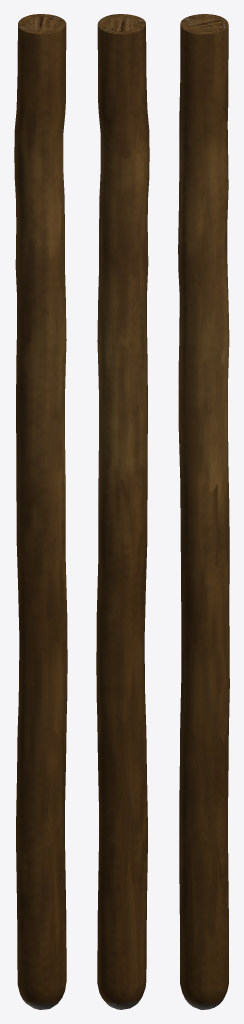
Rendered from wooden-spear-model.glb.
The picture shows the model from 3 angles, left to right: view 1: azimuth 30°, elevation 25°; view 2: azimuth 210°, elevation 25°; view 3: azimuth 330°, elevation 25°; orthographic projection.
Parts seen in each view (by area): view 1: flint-spear.001; view 2: flint-spear.001; view 3: flint-spear.001.
Boxes of the visible parts, <box> form: flint-spear.001: <box>14,14,67,1009</box>; flint-spear.001: <box>96,14,149,1009</box>; flint-spear.001: <box>178,14,229,1009</box>.
Size of the model in its own units: 0.0785 by 1.61 by 0.077.
Materials: 1 (1 with a texture image).
